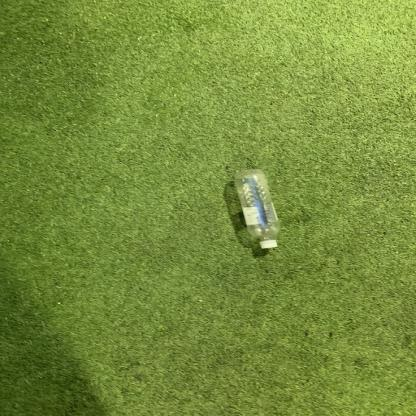trash: (233, 168, 284, 252)
